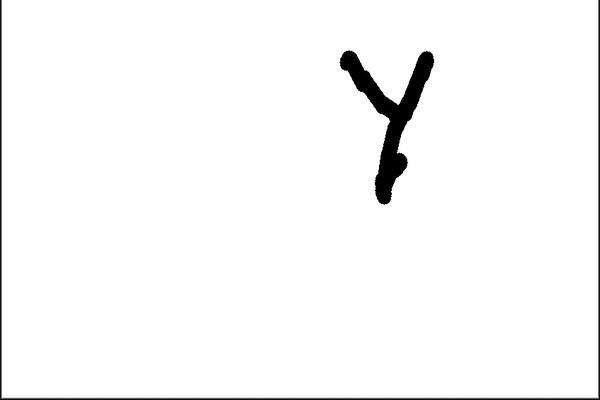Y: (323, 31, 453, 212)
